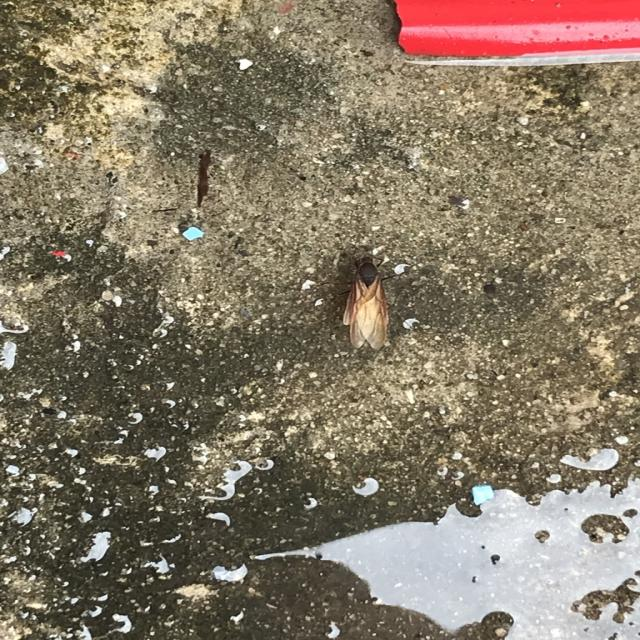Alive-Male-Alate: (311, 252, 420, 350)
